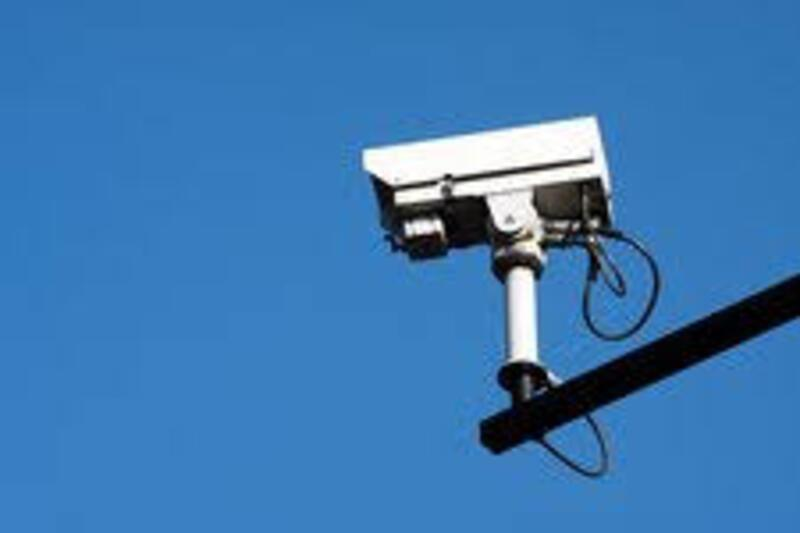box: (340, 131, 618, 257)
